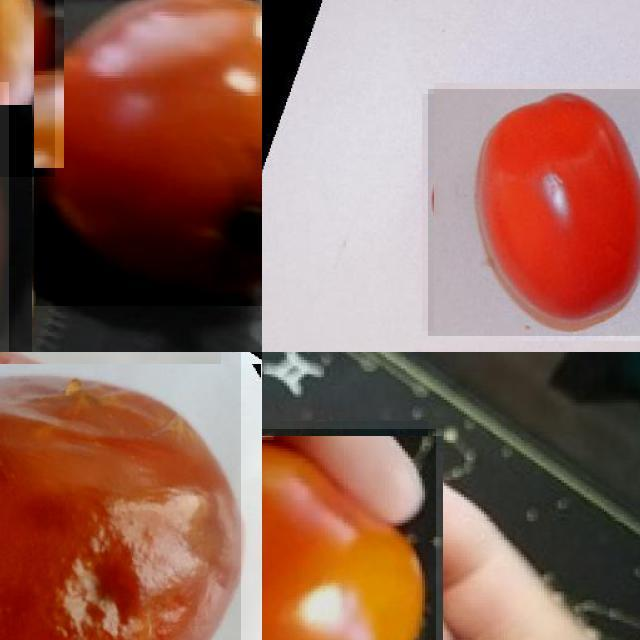Fresh Tomato: (34, 0, 262, 306), (427, 88, 640, 336), (262, 428, 436, 640)
Rotten Tomato: (0, 352, 241, 640)
